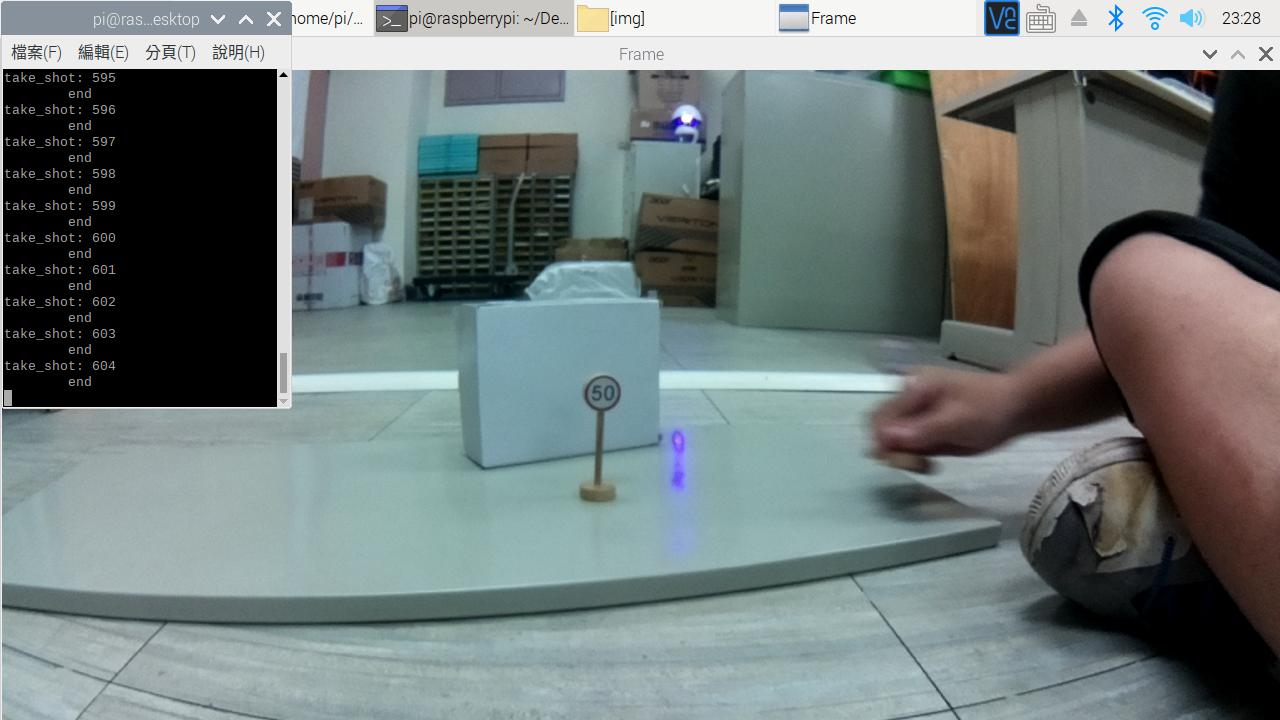Speed50: (581, 364, 635, 418)
